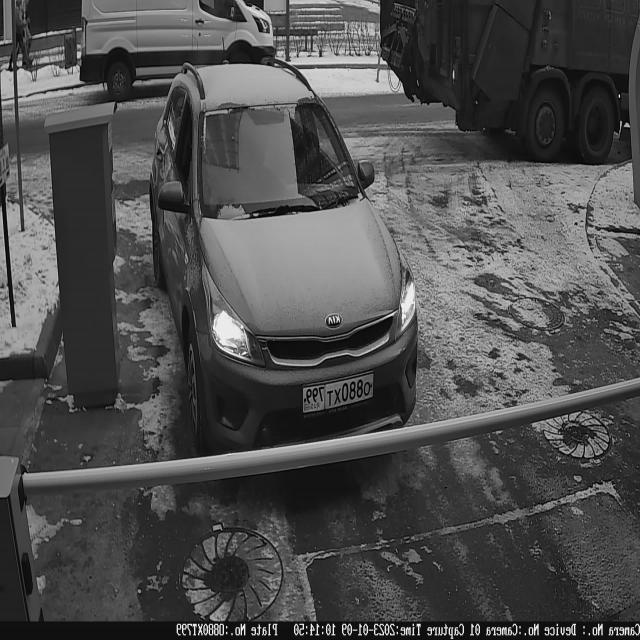car-plate-numbers: (301, 369, 379, 419)
